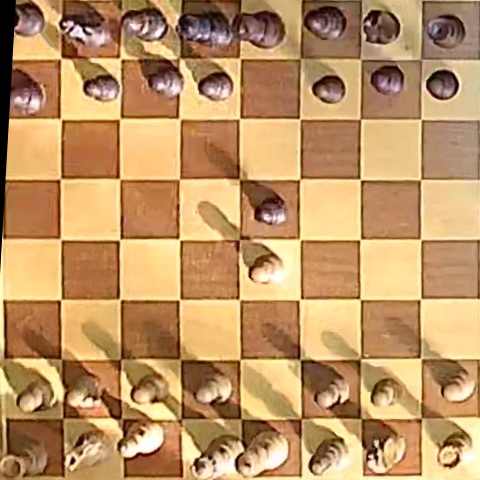black-bishop: (122, 7, 168, 42), (304, 6, 345, 40)
black-king: (230, 11, 286, 48)
black-knight: (60, 6, 111, 50), (363, 10, 400, 44)
black-pawn: (148, 66, 184, 98), (11, 85, 46, 115), (370, 65, 404, 95), (426, 69, 459, 99), (199, 72, 233, 101), (84, 75, 119, 102), (255, 197, 287, 226), (312, 75, 345, 103)
black-queen: (178, 11, 234, 47)
black-rook: (425, 14, 465, 49), (15, 3, 44, 36)
white-bishop: (119, 422, 163, 459), (309, 437, 350, 475), (129, 373, 169, 406)
white-king: (235, 430, 288, 477)
white-knight: (65, 429, 113, 472), (366, 432, 407, 472)
white-pawn: (243, 242, 286, 285), (18, 379, 57, 413), (66, 374, 102, 409), (195, 370, 233, 403), (314, 374, 349, 408), (442, 368, 476, 402), (371, 378, 402, 407)
white-queen: (192, 434, 244, 479)
white-rook: (2, 439, 47, 478), (437, 430, 473, 469)
